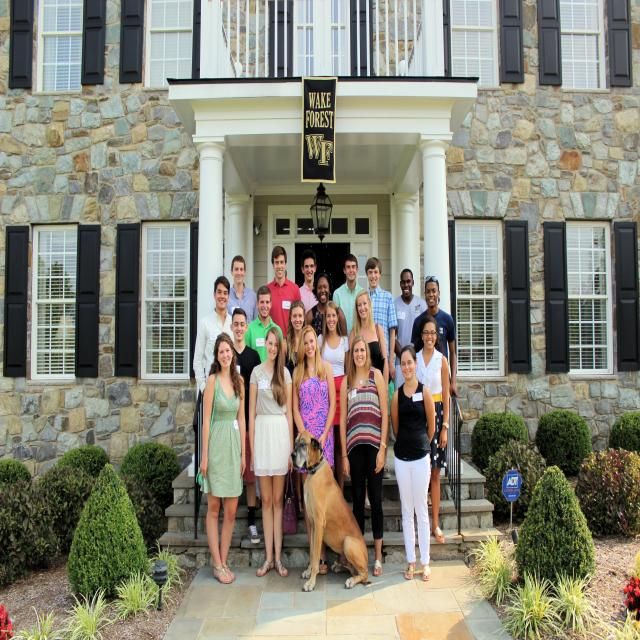body: (195, 331, 248, 586), (246, 324, 298, 582), (337, 332, 391, 578), (291, 324, 339, 576), (389, 345, 436, 584), (244, 286, 284, 510), (415, 314, 450, 544), (230, 306, 263, 546), (364, 256, 398, 481), (315, 299, 351, 493), (410, 275, 460, 402), (281, 298, 307, 514), (348, 288, 391, 406), (193, 276, 233, 396), (394, 268, 428, 392), (263, 245, 303, 339), (332, 253, 367, 340), (304, 271, 348, 338), (224, 254, 259, 326), (297, 248, 320, 316)
